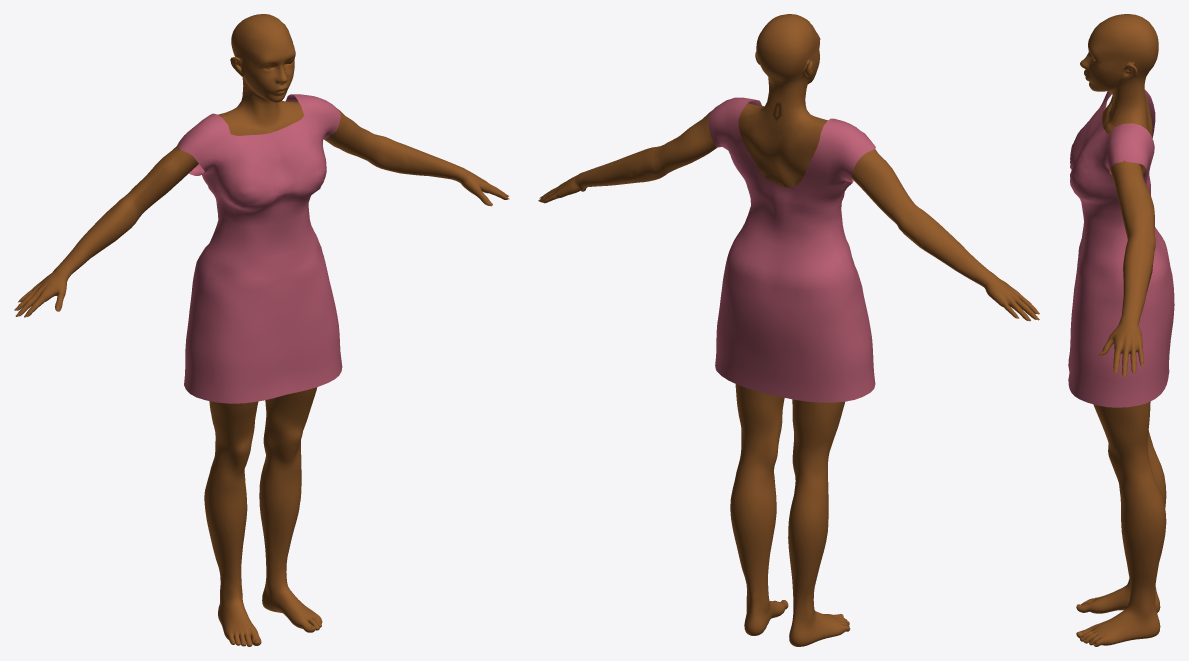
File: dress7.glb
3 views of the same model, side by side, from view 1: azimuth 30°, elevation 25°; view 2: azimuth 150°, elevation 25°; view 3: azimuth 270°, elevation 25° (orthographic).
Parts seen in each view (by area): view 1: Jennifer.F_Dress_01, Body; view 2: Body, Jennifer.F_Dress_01; view 3: Body, Jennifer.F_Dress_01.
Boxes of the visible parts, left/top/right/bottom form: Jennifer.F_Dress_01: left=177, top=94, right=342, bottom=403; Body: left=17, top=14, right=508, bottom=646; Body: left=539, top=14, right=1037, bottom=646; Jennifer.F_Dress_01: left=708, top=97, right=875, bottom=402; Body: left=1076, top=14, right=1166, bottom=646; Jennifer.F_Dress_01: left=1068, top=89, right=1174, bottom=407.
Bounding box in the file's own units: 1.58 × 1.85 × 0.2918.
